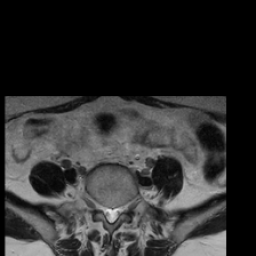CCS_normal: (108, 199, 114, 230)
LFS_normal: (121, 195, 128, 220)
LLS_normal: (114, 198, 121, 227)
RFS_normal: (95, 194, 102, 217)
RLS_normal: (102, 197, 108, 226)
